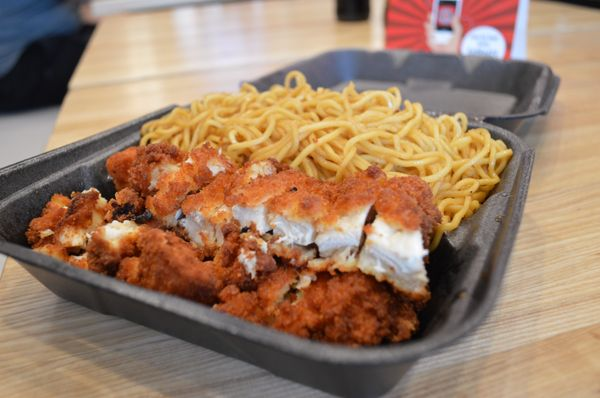sushi: (28, 68, 536, 387)
